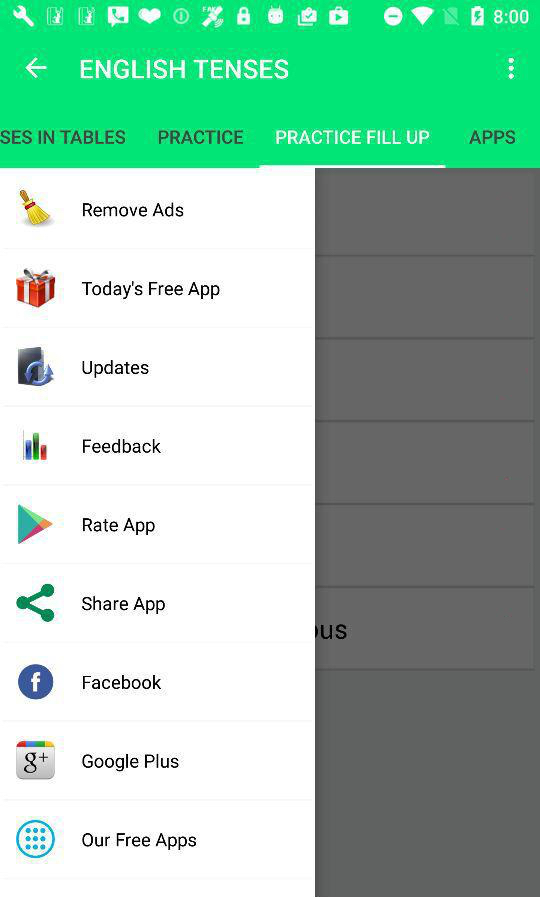Drawer: (1, 169, 315, 897)
Icon: (16, 740, 57, 780), (17, 583, 56, 623), (18, 663, 55, 700), (25, 57, 48, 81), (507, 57, 516, 82)
Image: (16, 268, 57, 309), (16, 819, 57, 859), (18, 504, 55, 546), (18, 347, 55, 387), (19, 189, 52, 226), (22, 429, 49, 461)
Multi_Tab: (1, 97, 540, 169)
Text: (80, 59, 290, 81), (82, 280, 221, 301), (275, 129, 430, 146), (1, 129, 126, 147), (82, 832, 198, 851), (82, 753, 180, 773), (82, 595, 167, 616), (82, 202, 185, 219), (82, 516, 156, 537), (81, 359, 150, 380), (159, 129, 244, 146), (82, 674, 163, 691), (82, 438, 162, 455), (468, 129, 516, 146)
Toolbar: (2, 35, 540, 97)
UpperTaskBar: (1, 1, 540, 33)
